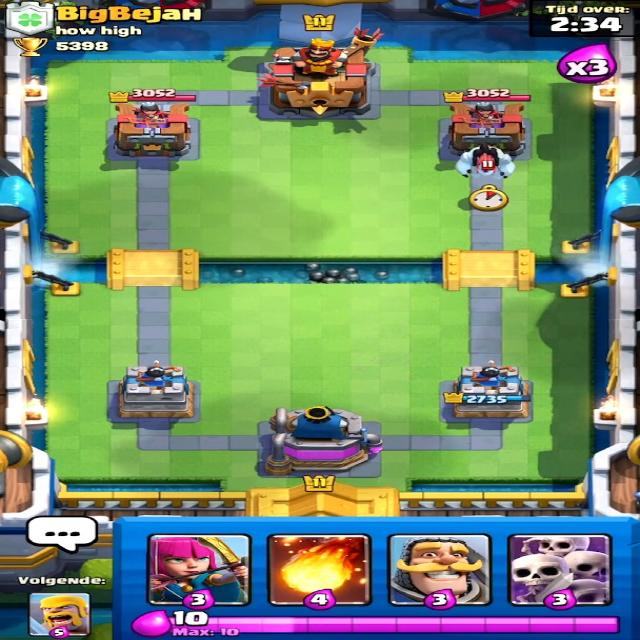Fireball_Card: (271, 533, 372, 606)
